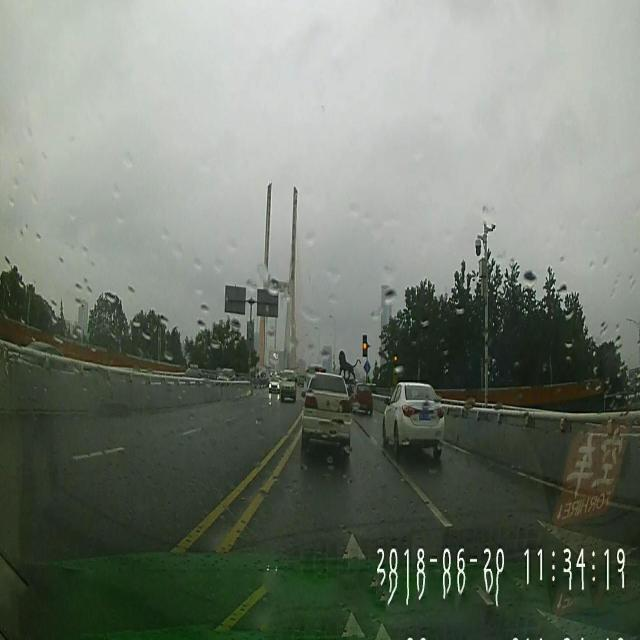car: (382, 381, 444, 459), (302, 369, 351, 460), (352, 381, 373, 416), (278, 370, 296, 402), (266, 373, 278, 397)
